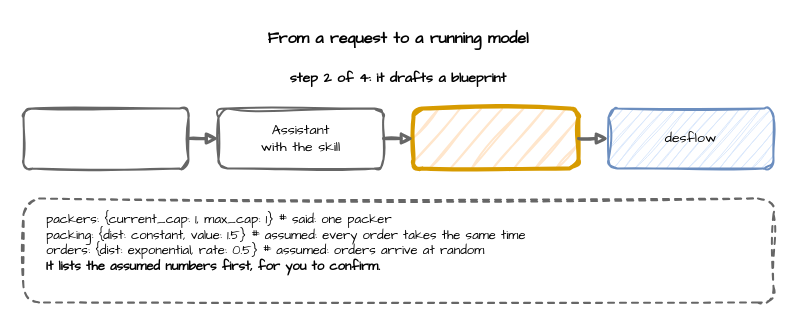
Some shapes in this 796 by 325 pixel diagram are drawn without their labels. Each missing label, with the centre of its shape:
"Blueprint (YAML)" goes at (495,138).
"You" goes at (105,138).
